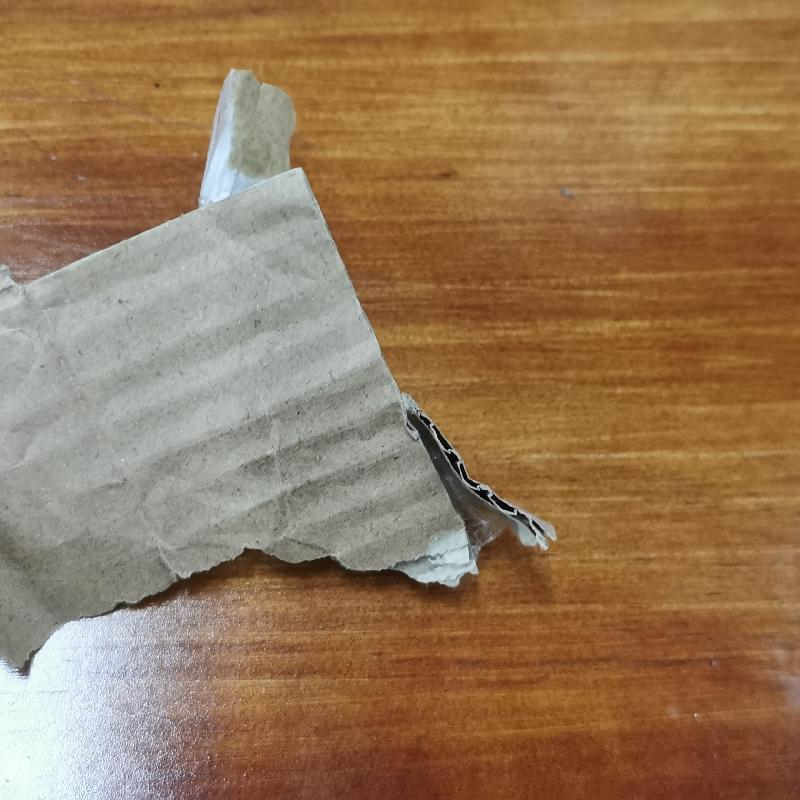boxes: (4, 68, 552, 671)
